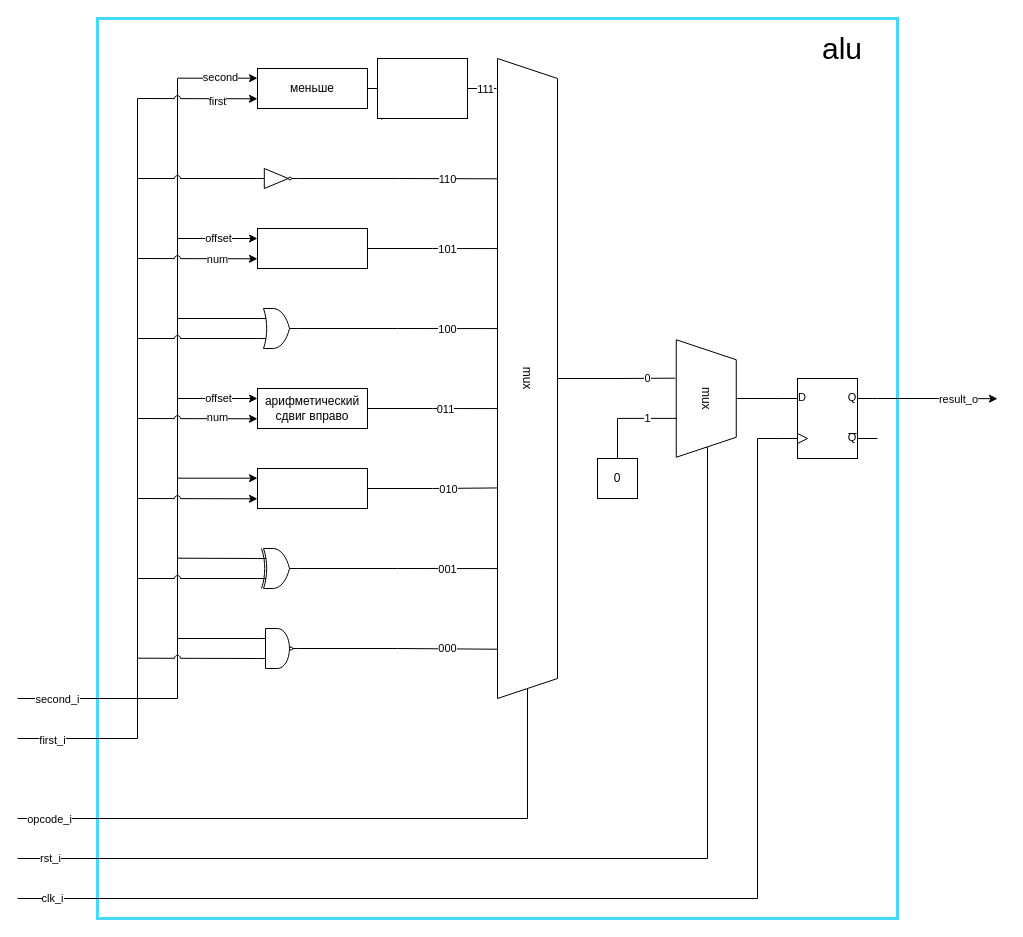
This 1023x937 diagram has some shape labels left out. Each missing label, with the centre of its shape:
"беззнаковый сумматор" belongs at point 312,488.
"расширение до размера операндов" belongs at point 422,88.
"сдвиг влево" belongs at point 312,248.
